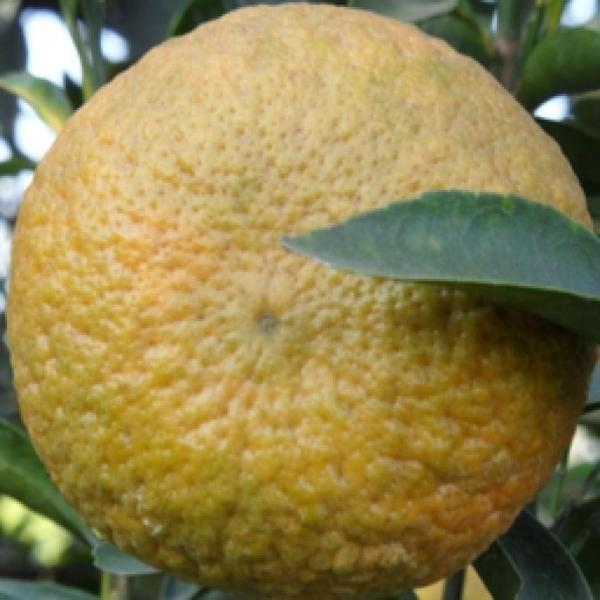Greening: (11, 0, 598, 598)
